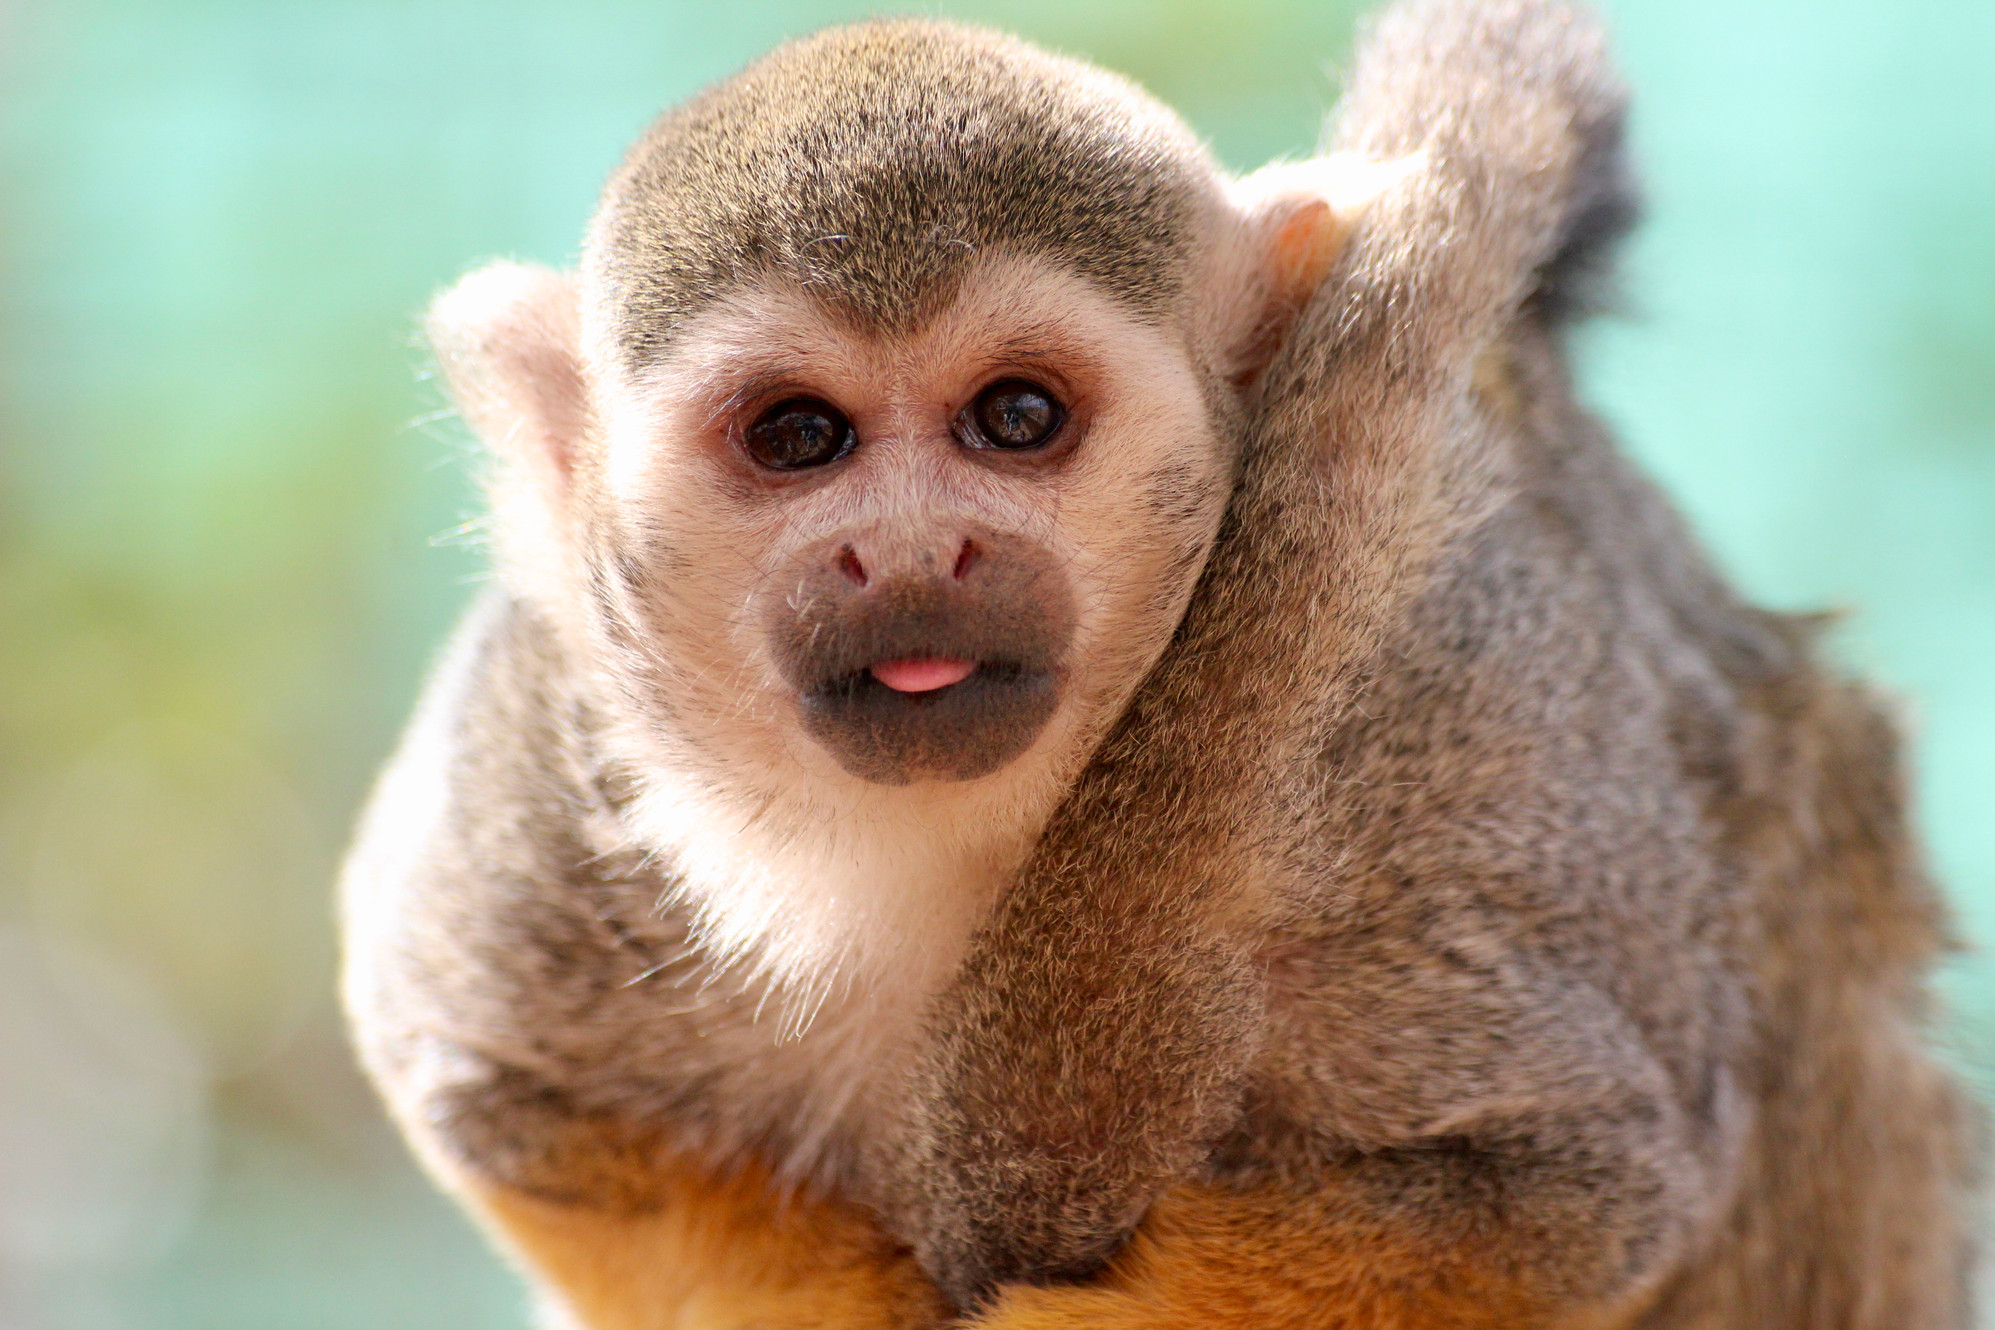wild: (393, 4, 1450, 819)
